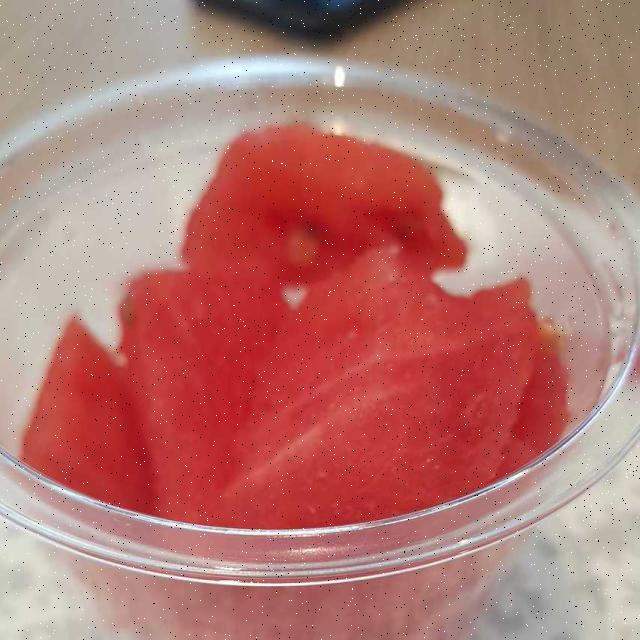watermelon-fresh: (43, 130, 564, 518)
